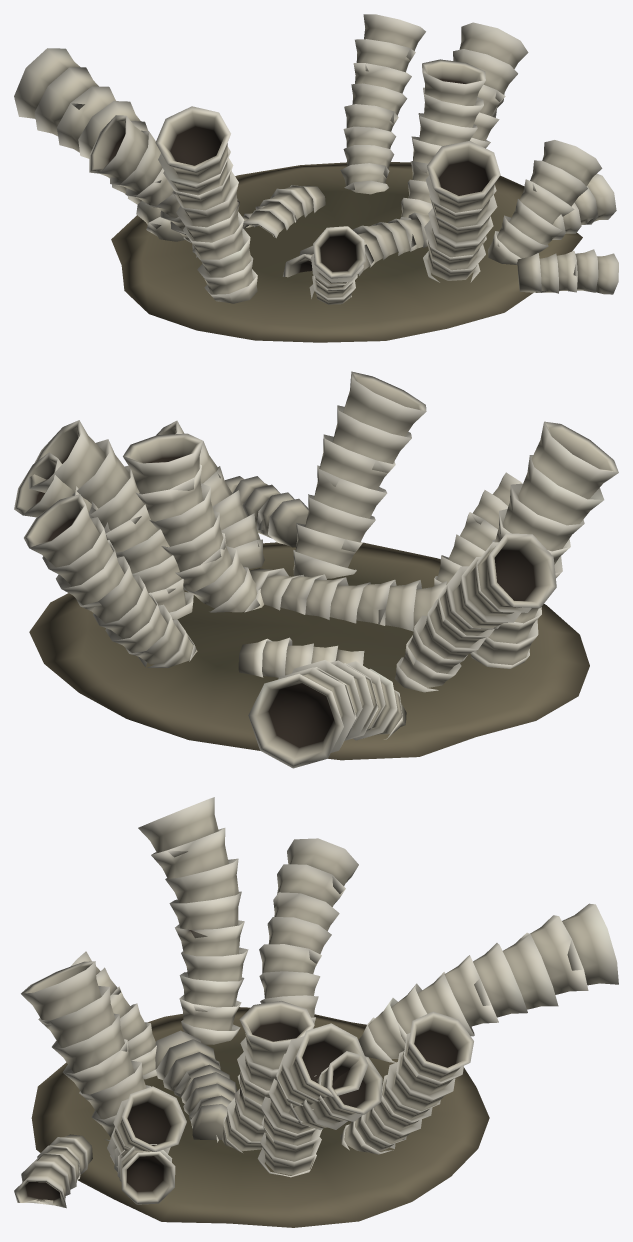
File: CloudinaHartmannae.fbx
3 renders of one model, top to bottom at view 1: azimuth 30°, elevation 25°; view 2: azimuth 150°, elevation 25°; view 3: azimuth 270°, elevation 25°, orthographic. The views are drawn at different scales.
Visible parts, largest first — view 1: CloudinaHartmannae; view 2: CloudinaHartmannae; view 3: CloudinaHartmannae.
Part boxes in pixels (x1,y1,x2,y2): CloudinaHartmannae: (14,14,618,342); CloudinaHartmannae: (14,371,618,768); CloudinaHartmannae: (14,797,618,1227).
Size of the model in its own units: 0.8965 by 0.4059 by 0.988.
